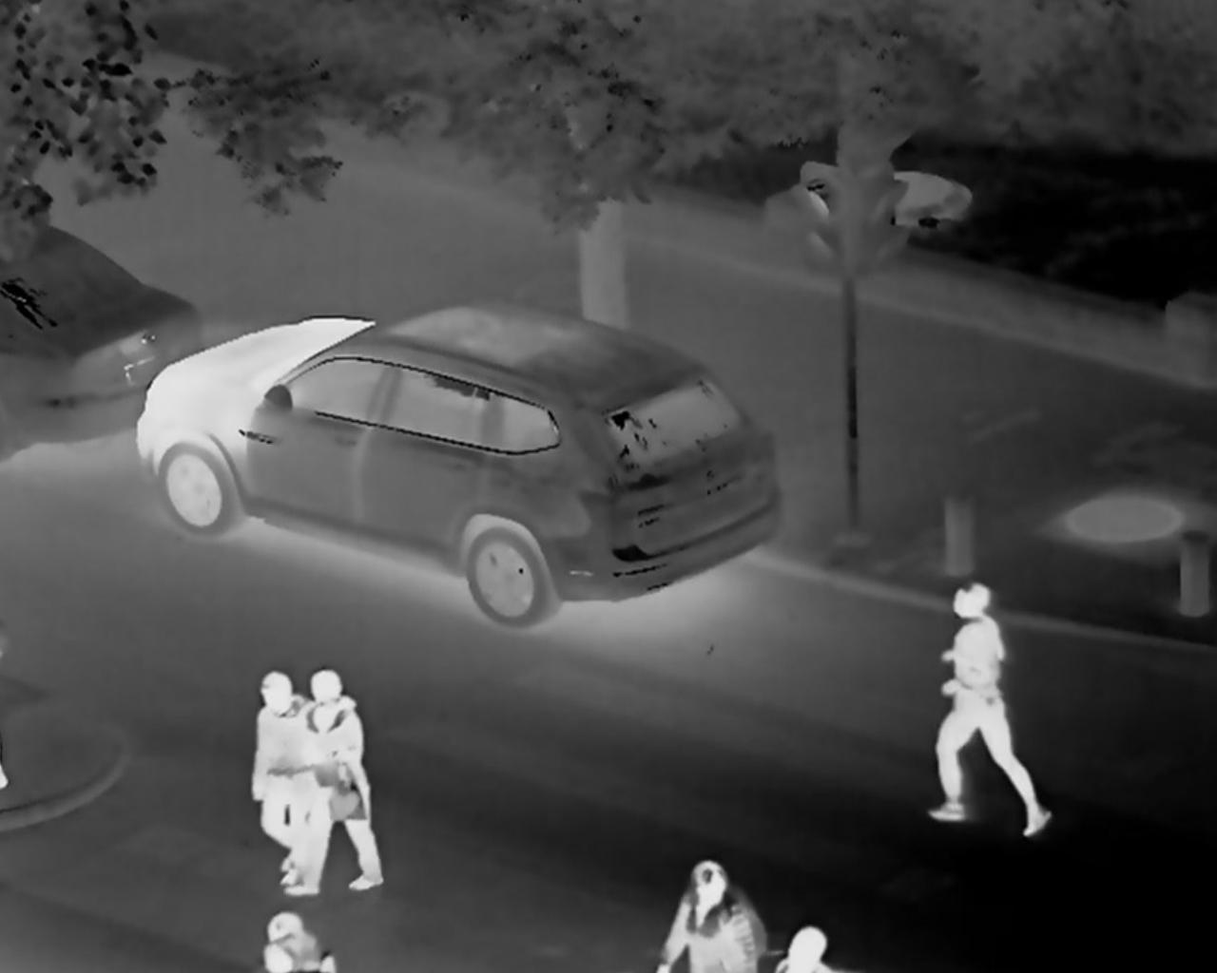person: (937, 550, 1067, 839), (305, 671, 382, 923), (247, 648, 310, 858), (687, 852, 754, 973), (256, 907, 317, 973), (783, 914, 832, 973)
